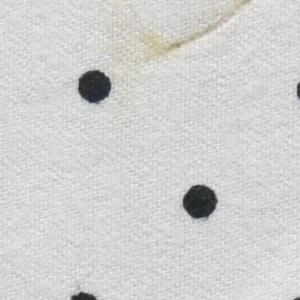Oil Stain: (96, 1, 255, 86)
